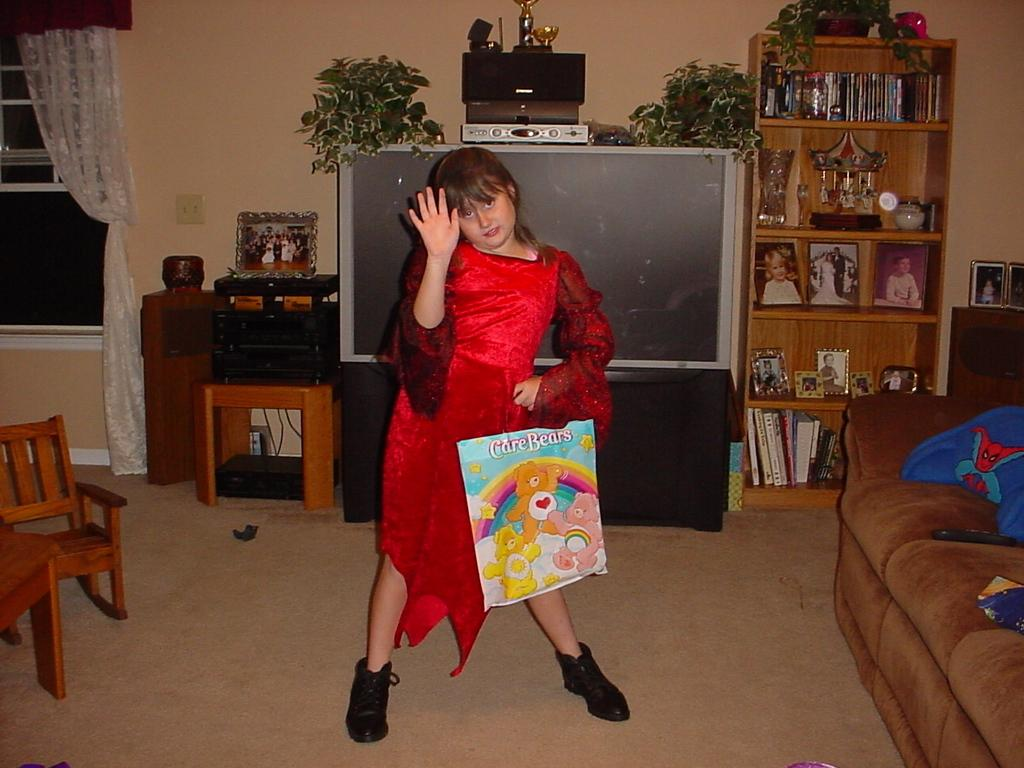Book: (455, 418, 608, 612)
Chair: (0, 413, 128, 626)
Computer-monitor: (335, 139, 746, 381)
